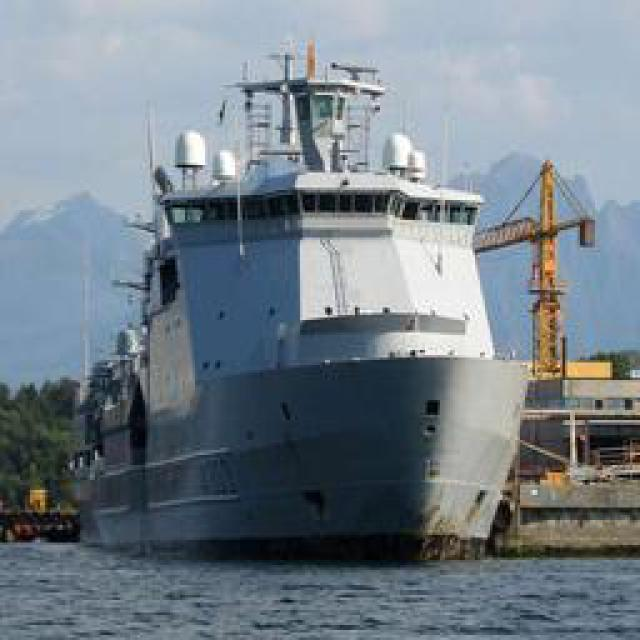Ship: (76, 24, 536, 557)
